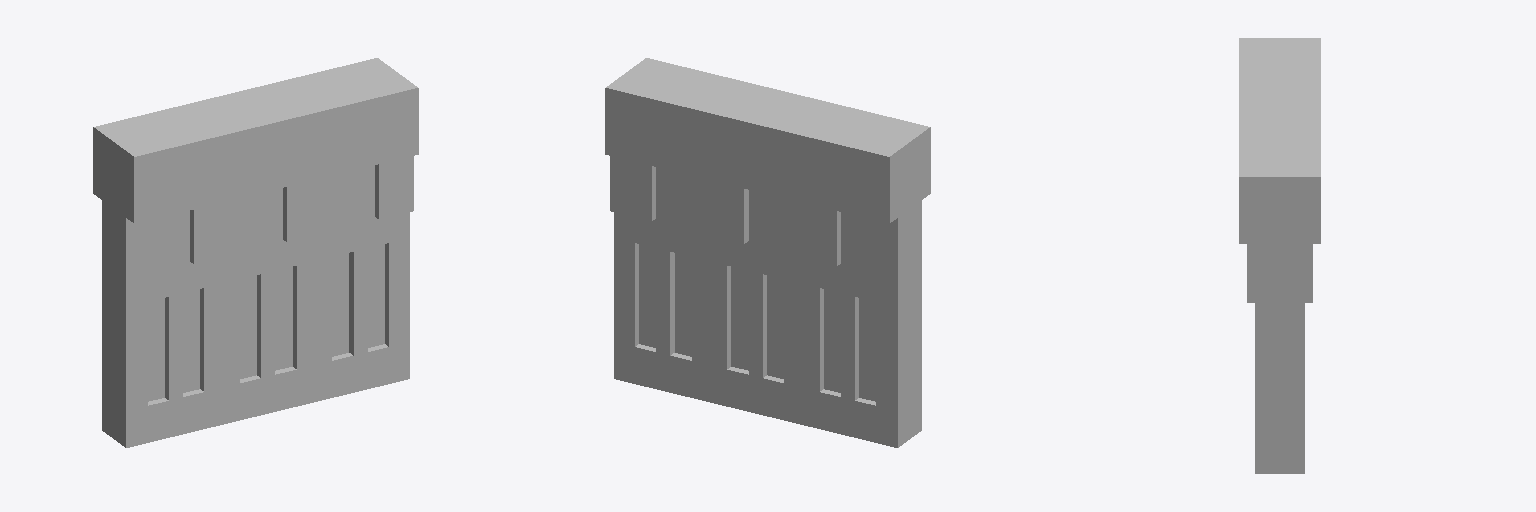
The model's file is wall.obj.
3 views of the same model, side by side, from view 1: azimuth 30°, elevation 25°; view 2: azimuth 150°, elevation 25°; view 3: azimuth 270°, elevation 25° (orthographic).
Visible parts, largest first — view 1: object 1; view 2: object 1; view 3: object 1.
Part boxes in pixels (x1,y1,x2,y2): object 1: (93, 58, 418, 447); object 1: (605, 58, 930, 447); object 1: (1239, 38, 1320, 473).
Bounding box in the file's own units: 4 × 4 × 1.